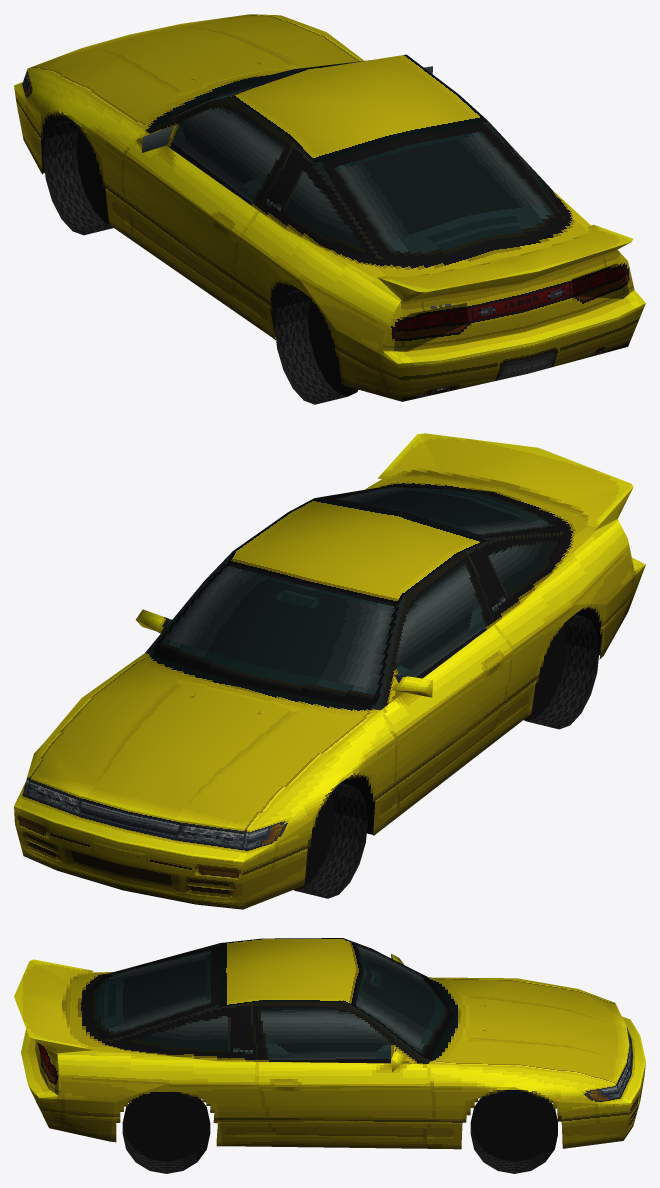
File: GT_SIMULATION__N_18N.glb
3 renders of one model, top to bottom at view 1: azimuth 30°, elevation 25°; view 2: azimuth 150°, elevation 25°; view 3: azimuth 270°, elevation 25°, orthographic. The views are drawn at different scales.
Visible parts, largest first — view 1: Native body LOD0, Native wheel 2, Native wheel 0; view 2: Native body LOD0, Native wheel 2, Native wheel 0; view 3: Native body LOD0, Native wheel 1, Native wheel 3.
Boxes of the visible parts, left/top/right/bottom form: Native body LOD0: left=14, top=14, right=645, bottom=401; Native wheel 2: left=275, top=289, right=358, bottom=404; Native wheel 0: left=43, top=119, right=113, bottom=235; Native body LOD0: left=14, top=433, right=645, bottom=909; Native wheel 2: left=524, top=614, right=599, bottom=729; Native wheel 0: left=294, top=783, right=367, bottom=898; Native body LOD0: left=14, top=938, right=645, bottom=1149; Native wheel 1: left=470, top=1090, right=557, bottom=1173; Native wheel 3: left=122, top=1091, right=210, bottom=1173.
Size of the model in its own units: 1.82 by 1.26 by 4.51.
14 materials, 13 textured.
